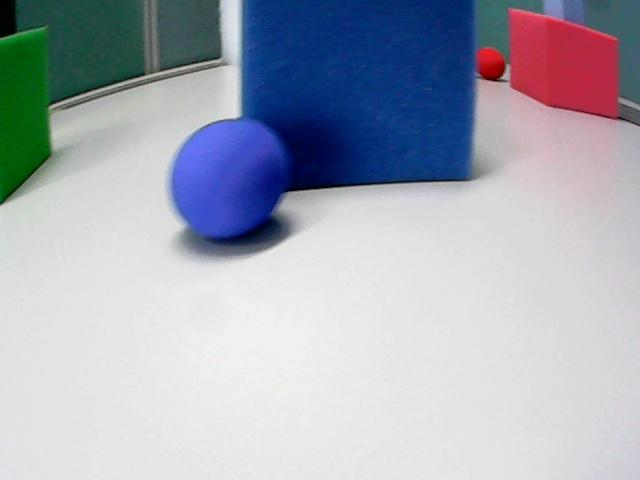blue_block: (242, 0, 474, 188), (544, 0, 584, 25), (564, 0, 584, 25), (544, 0, 565, 19)
red_block: (509, 9, 618, 117)
